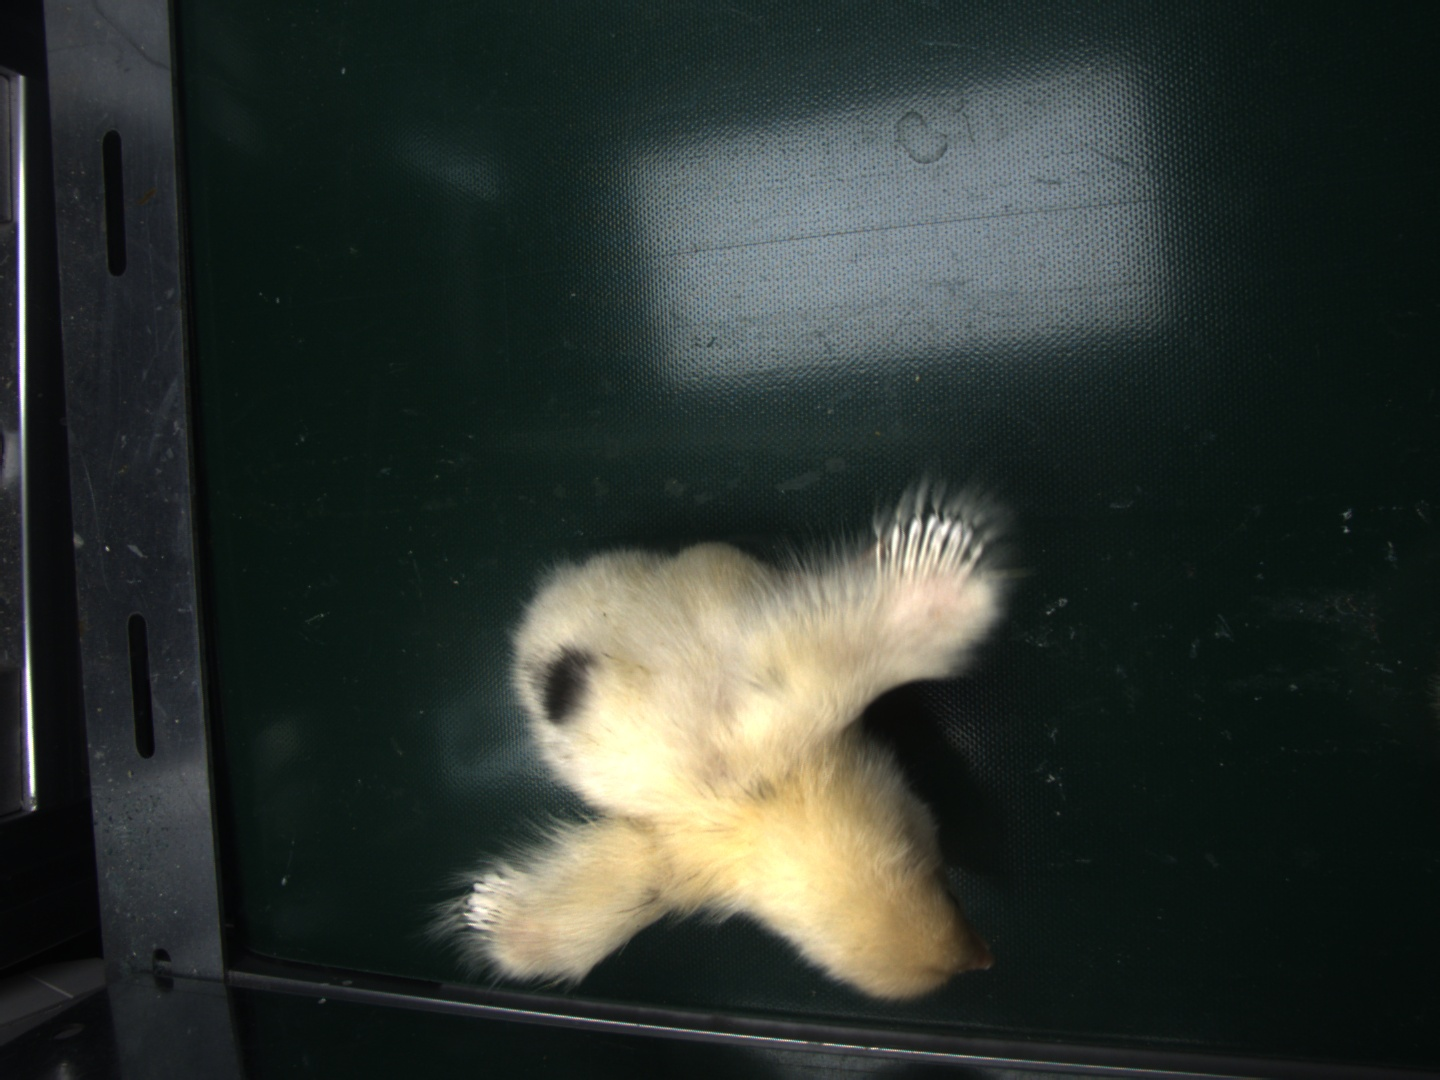male: (879, 512, 989, 585)
